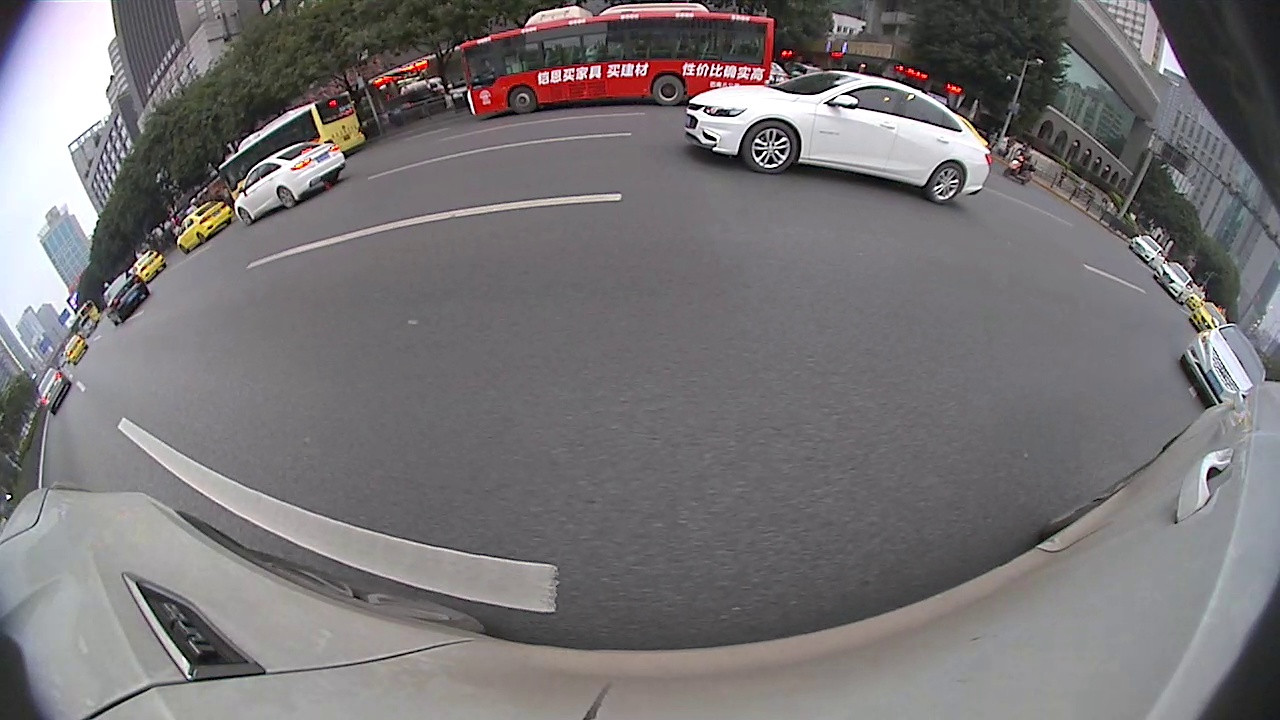bus: (904, 143, 1158, 275)
car: (132, 150, 432, 351), (1060, 246, 1276, 417), (854, 164, 1012, 248), (718, 139, 850, 222), (464, 159, 552, 214), (583, 148, 665, 206)
front: (1080, 272, 1118, 313), (397, 208, 428, 256), (847, 192, 866, 217), (714, 176, 728, 201)
rear: (221, 264, 292, 346), (1222, 373, 1263, 421), (1024, 227, 1052, 261), (913, 209, 939, 240), (745, 175, 764, 212), (522, 187, 532, 206)
